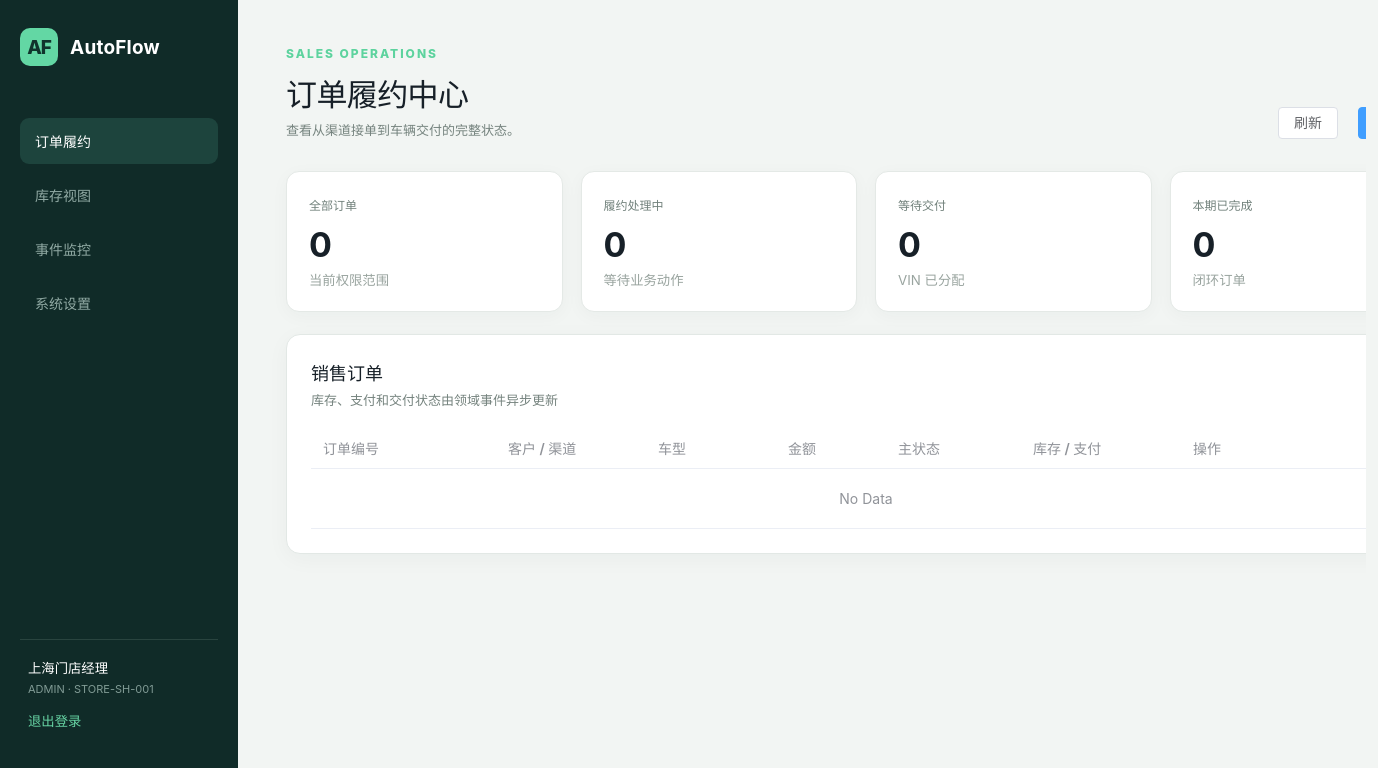
Test: sidebar navigation › switches to 系统设置 when its menu item is clicked
Click the button "系统设置".
click(119, 303)  # box [20,280,218,326]
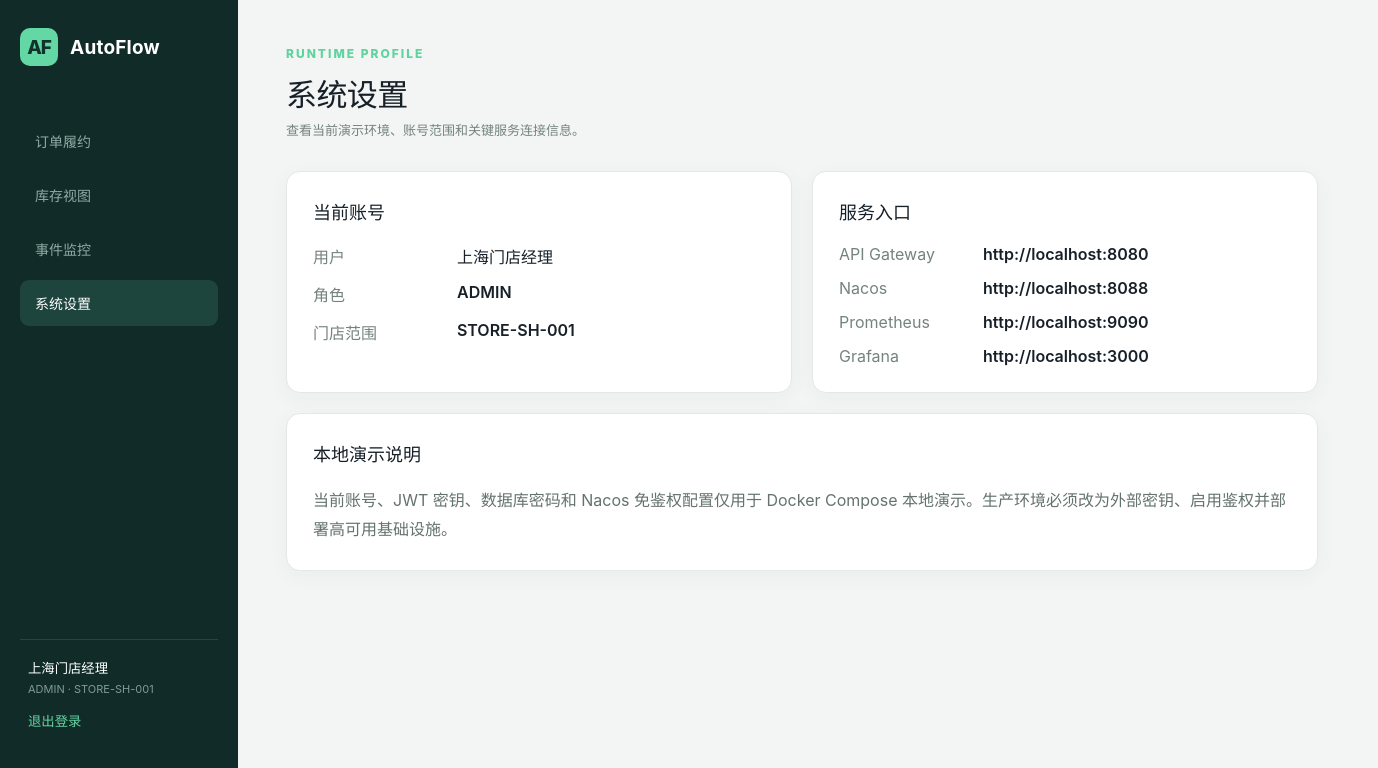
Now the heading "系统设置" is shown, box [286,76,408,113]
